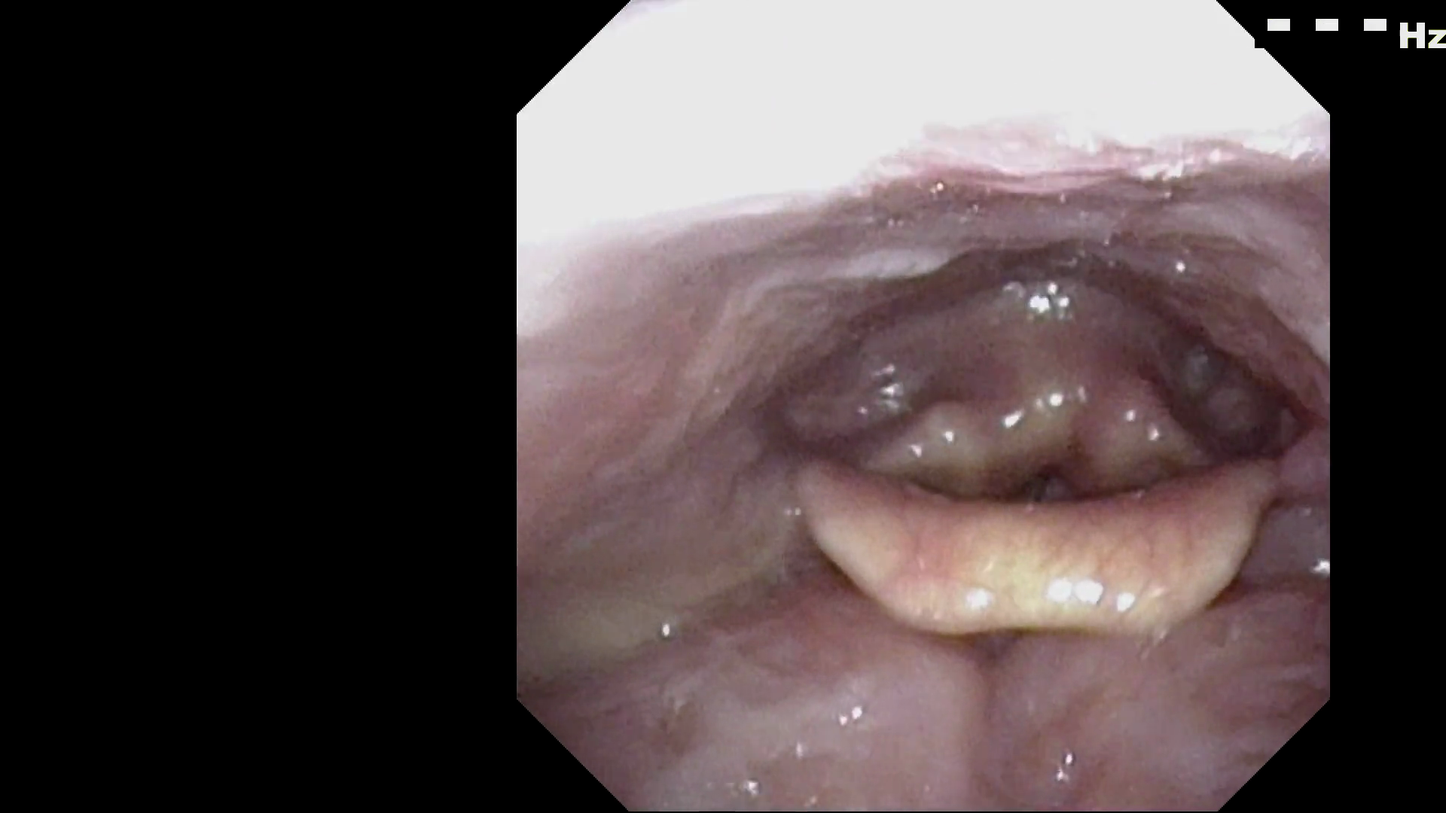epiglottis: (782, 433, 1307, 673)
trachea: (972, 397, 1119, 551)
